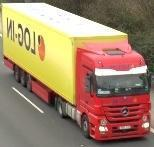Truck: (2, 3, 151, 140)
